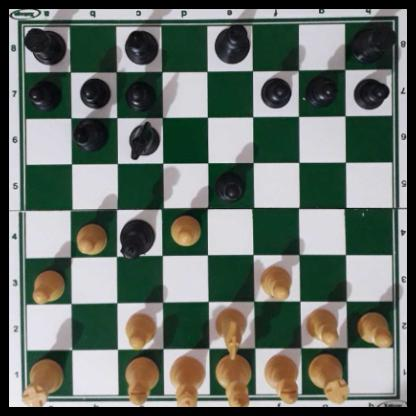black-bishop: (123, 27, 159, 63), (71, 119, 109, 152)
black-king: (214, 23, 250, 65)
black-knight: (127, 120, 158, 157)
black-pawn: (353, 75, 388, 109), (213, 168, 247, 201), (260, 74, 291, 108), (28, 78, 61, 109), (79, 75, 109, 109), (307, 74, 337, 106), (126, 76, 154, 109)
black-queen: (119, 218, 156, 261)
black-rook: (21, 24, 65, 65), (351, 20, 393, 62)
white-bishop: (263, 354, 300, 405), (125, 353, 157, 404)
white-king: (215, 351, 251, 407)
white-knight: (213, 306, 246, 358)
white-pawn: (305, 306, 341, 344), (356, 309, 392, 345), (73, 220, 109, 255), (29, 268, 65, 303), (124, 310, 156, 349), (259, 263, 291, 299), (169, 214, 201, 246)
white-queen: (168, 354, 205, 407)
white-rook: (307, 351, 351, 405), (23, 354, 62, 407)
